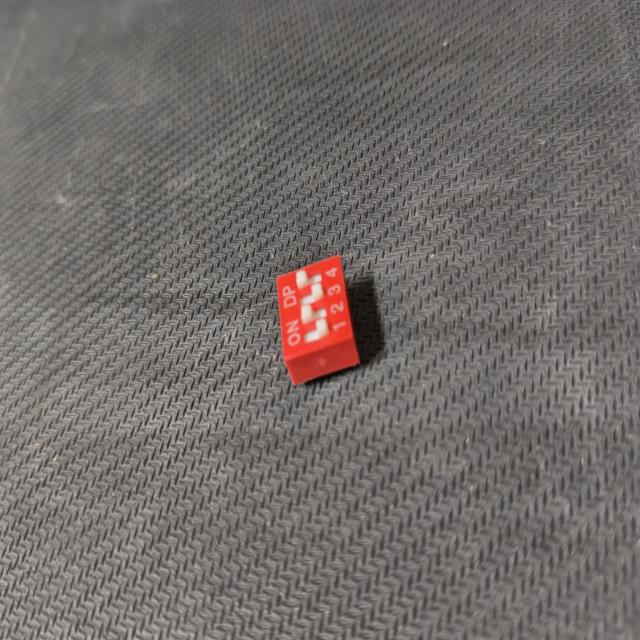switch: (269, 249, 372, 396)
